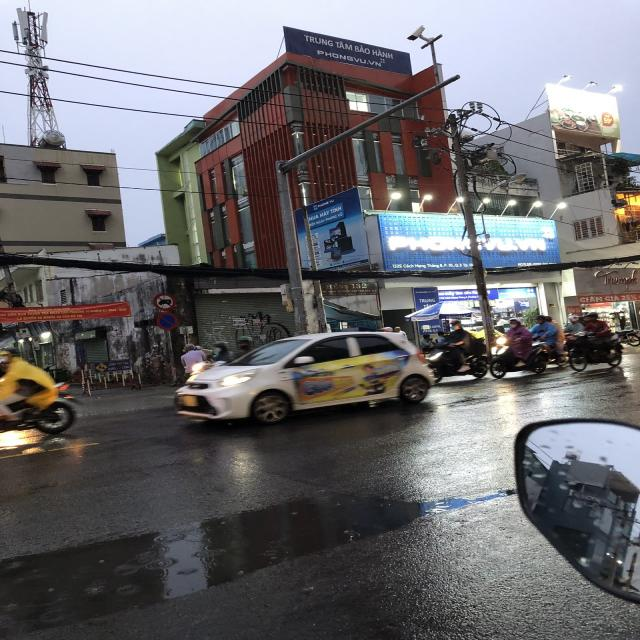Bien bao cam do xe: (155, 312, 179, 330)
Bien bao cam xe oto tai: (150, 290, 178, 312)
